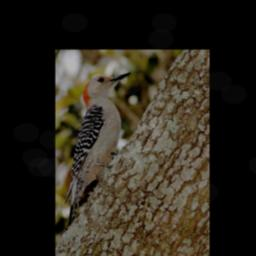Woodpecker: (59, 64, 133, 236)
